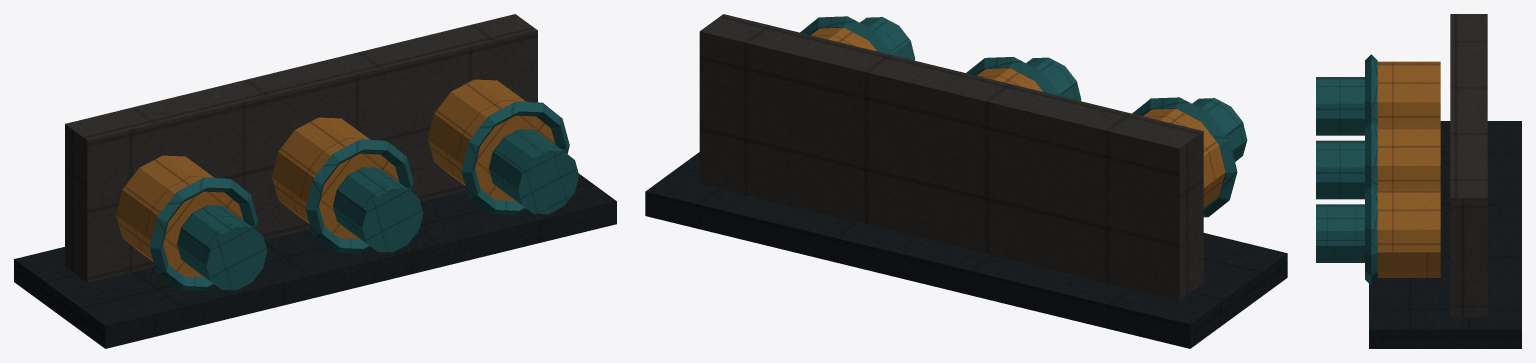
Rendered from engine-glow-idle.e10.glb.
3 views of the same model, side by side, from view 1: azimuth 30°, elevation 25°; view 2: azimuth 150°, elevation 25°; view 3: azimuth 270°, elevation 25° (orthographic). The views are drawn at different scales.
Visible parts, largest first — view 1: EngineGlowIdleE10; view 2: EngineGlowIdleE10; view 3: EngineGlowIdleE10.
Part boxes in pixels (bbox=[...]): EngineGlowIdleE10: bbox=[14, 14, 616, 348]; EngineGlowIdleE10: bbox=[645, 14, 1287, 348]; EngineGlowIdleE10: bbox=[1316, 14, 1521, 348].
Bounding box in the file's own units: 4.2 × 1.3 × 1.75.
1 material, 1 textured.
